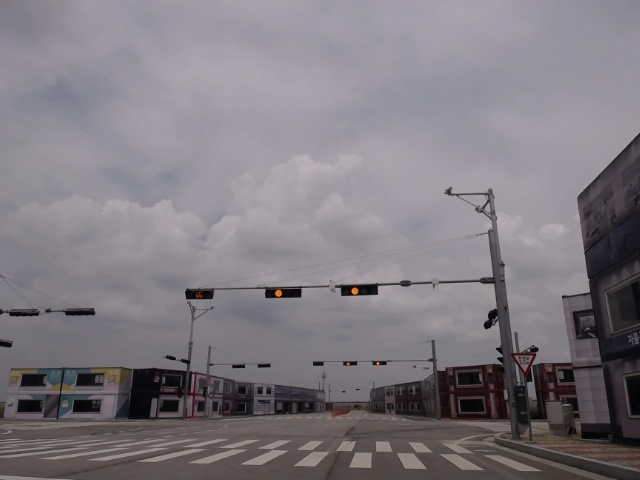orange_4: (339, 281, 379, 295), (264, 287, 303, 299), (370, 359, 391, 367), (342, 360, 360, 368)
